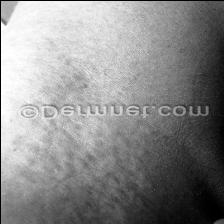Unclassified: (34, 126, 146, 204), (58, 69, 96, 97)
